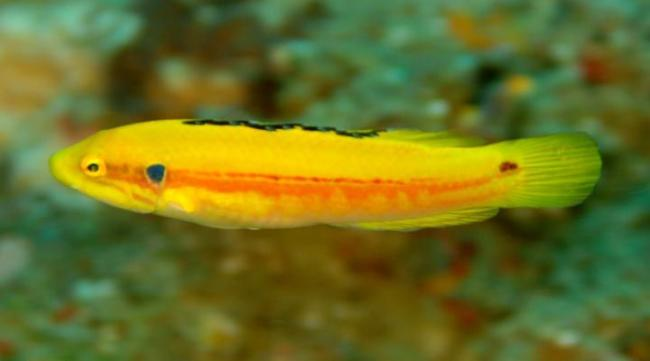fish: (51, 118, 602, 231)
